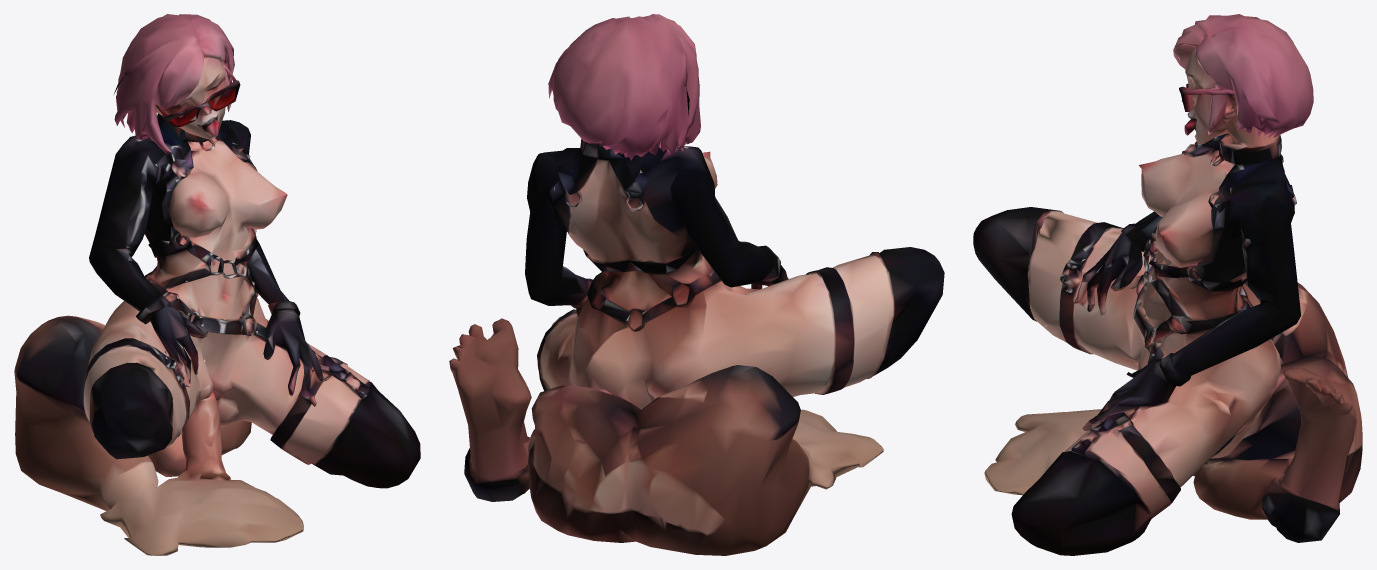
The picture shows the model from 3 angles, left to right: view 1: azimuth 30°, elevation 25°; view 2: azimuth 150°, elevation 25°; view 3: azimuth 270°, elevation 25°; orthographic projection. The views are drawn at different scales.
Visible parts, largest first — view 1: model; view 2: model; view 3: model.
Boxes of the visible parts, box(x1,y1,x2,y2) form: model: box(14, 14, 420, 555); model: box(449, 14, 944, 555); model: box(973, 14, 1362, 555).
Bounding box in the file's own units: 1.27 × 1.6 × 1.2.
